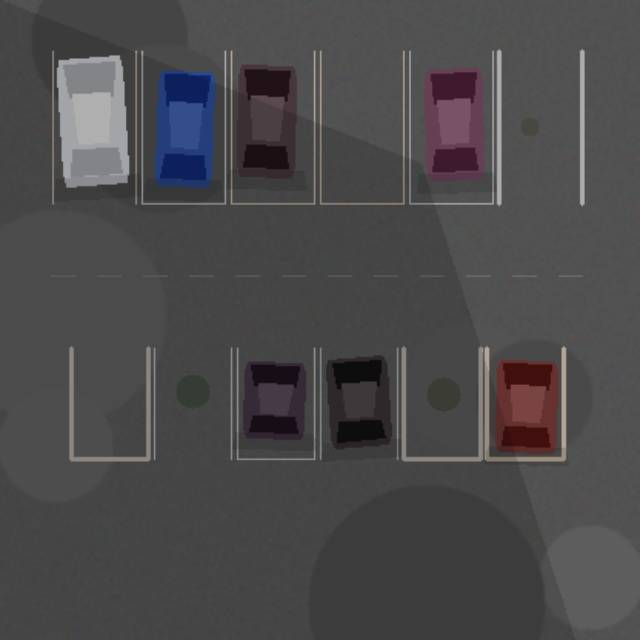space-empty: (498, 51, 582, 203), (320, 51, 403, 203), (71, 348, 148, 458), (154, 348, 231, 458), (403, 348, 480, 458)
space-occupied: (52, 51, 135, 203), (142, 51, 225, 203), (231, 51, 314, 203), (409, 51, 492, 203), (237, 348, 314, 458), (320, 348, 397, 458), (486, 348, 563, 458)
